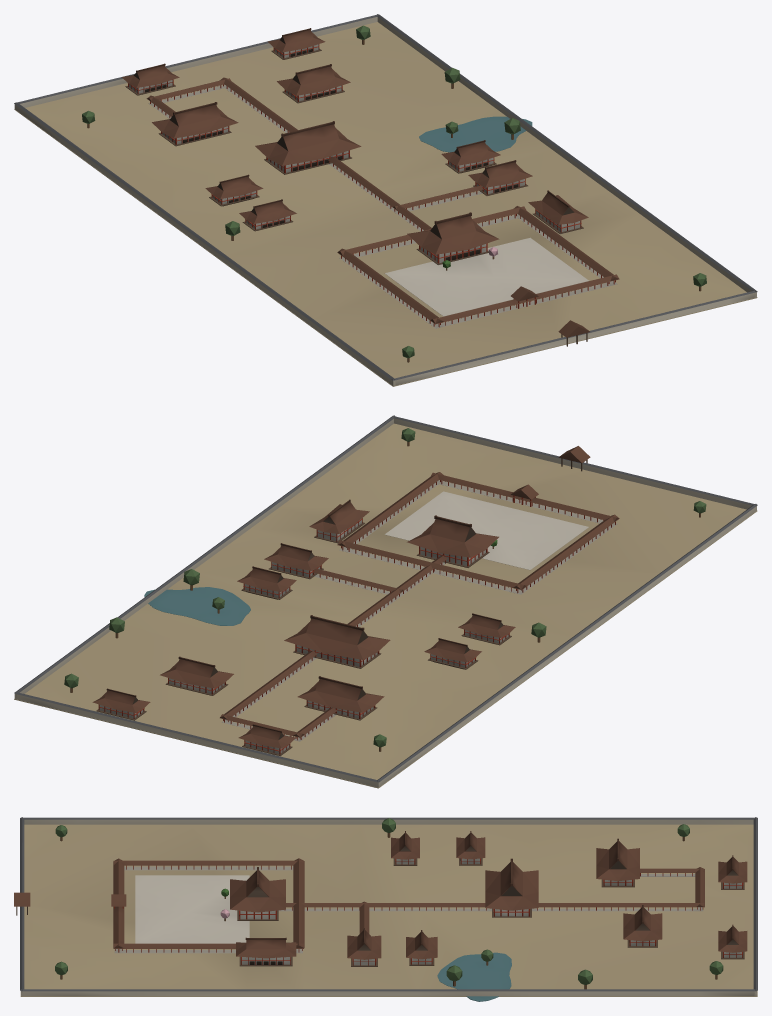
The model's file is gosho.glb.
3 renders of one model, top to bottom at view 1: azimuth 30°, elevation 25°; view 2: azimuth 150°, elevation 25°; view 3: azimuth 270°, elevation 25°, orthographic. The views are drawn at different scales.
Visible parts, largest first — view 1: p0_grounds, p2_roofs, p1_halls; view 2: p0_grounds, p1_halls, p2_roofs; view 3: p0_grounds, p2_roofs, p1_halls.
Part boxes in pixels (left/top/right/bottom): p0_grounds: left=14, top=14, right=757, bottom=386; p2_roofs: left=82, top=25, right=706, bottom=362; p1_halls: left=125, top=44, right=619, bottom=346; p0_grounds: left=14, top=415, right=757, bottom=788; p1_halls: left=96, top=446, right=619, bottom=755; p2_roofs: left=64, top=428, right=706, bottom=751; p0_grounds: left=20, top=817, right=757, bottom=1001; p2_roofs: left=55, top=818, right=747, bottom=989; p1_halls: left=14, top=858, right=744, bottom=966.
Size of the model in its own units: 258 by 23.72 by 454.
